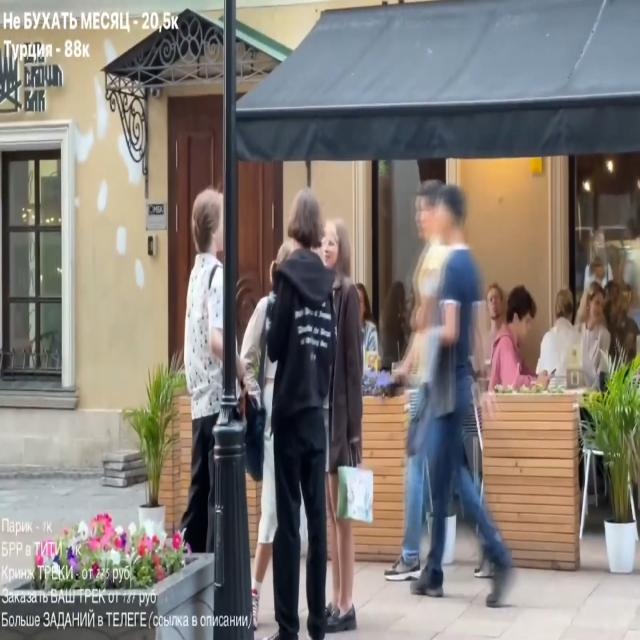Person: (383, 173, 524, 619), (251, 193, 371, 631), (180, 188, 239, 580), (488, 286, 540, 392), (536, 290, 579, 389)
